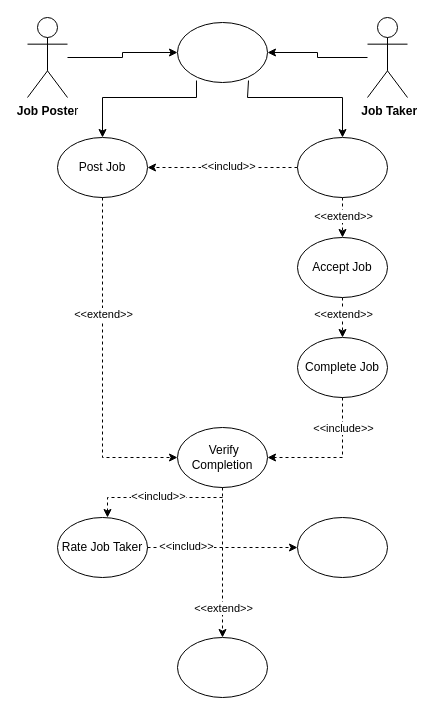
The diagram is 434 pixels wide and 715 high, and some of its shapes have lost their labels. The box of each missing label's shape, as (x1, y1, x2, y2) in pixels:
Browser Jobs: (296, 136, 388, 198)
Payment & etc.: (176, 636, 268, 698)
Provide feedback: (296, 516, 388, 578)
Register Account: (176, 22, 268, 82)
